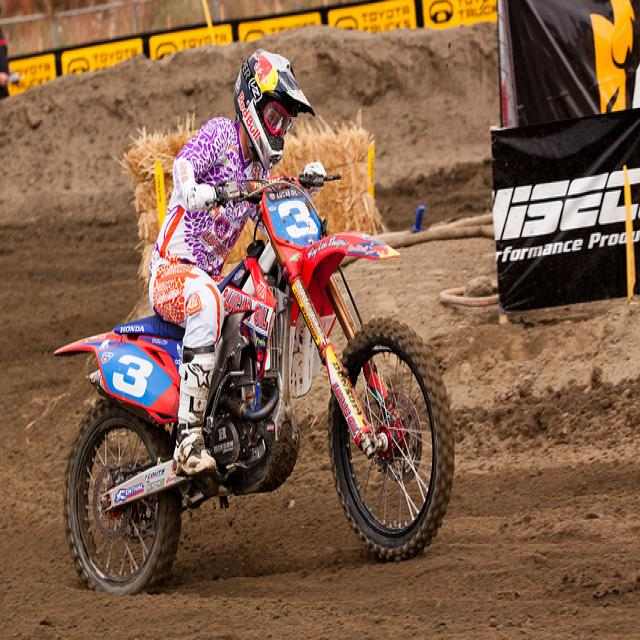motor: (56, 161, 464, 611)
